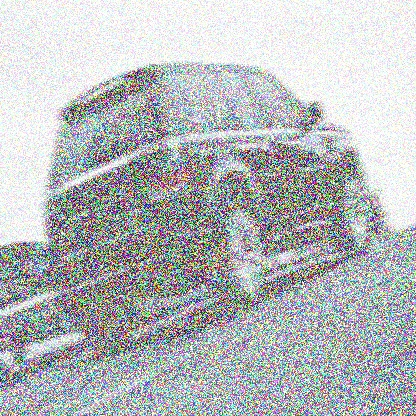Vehicle: (42, 60, 372, 346)
